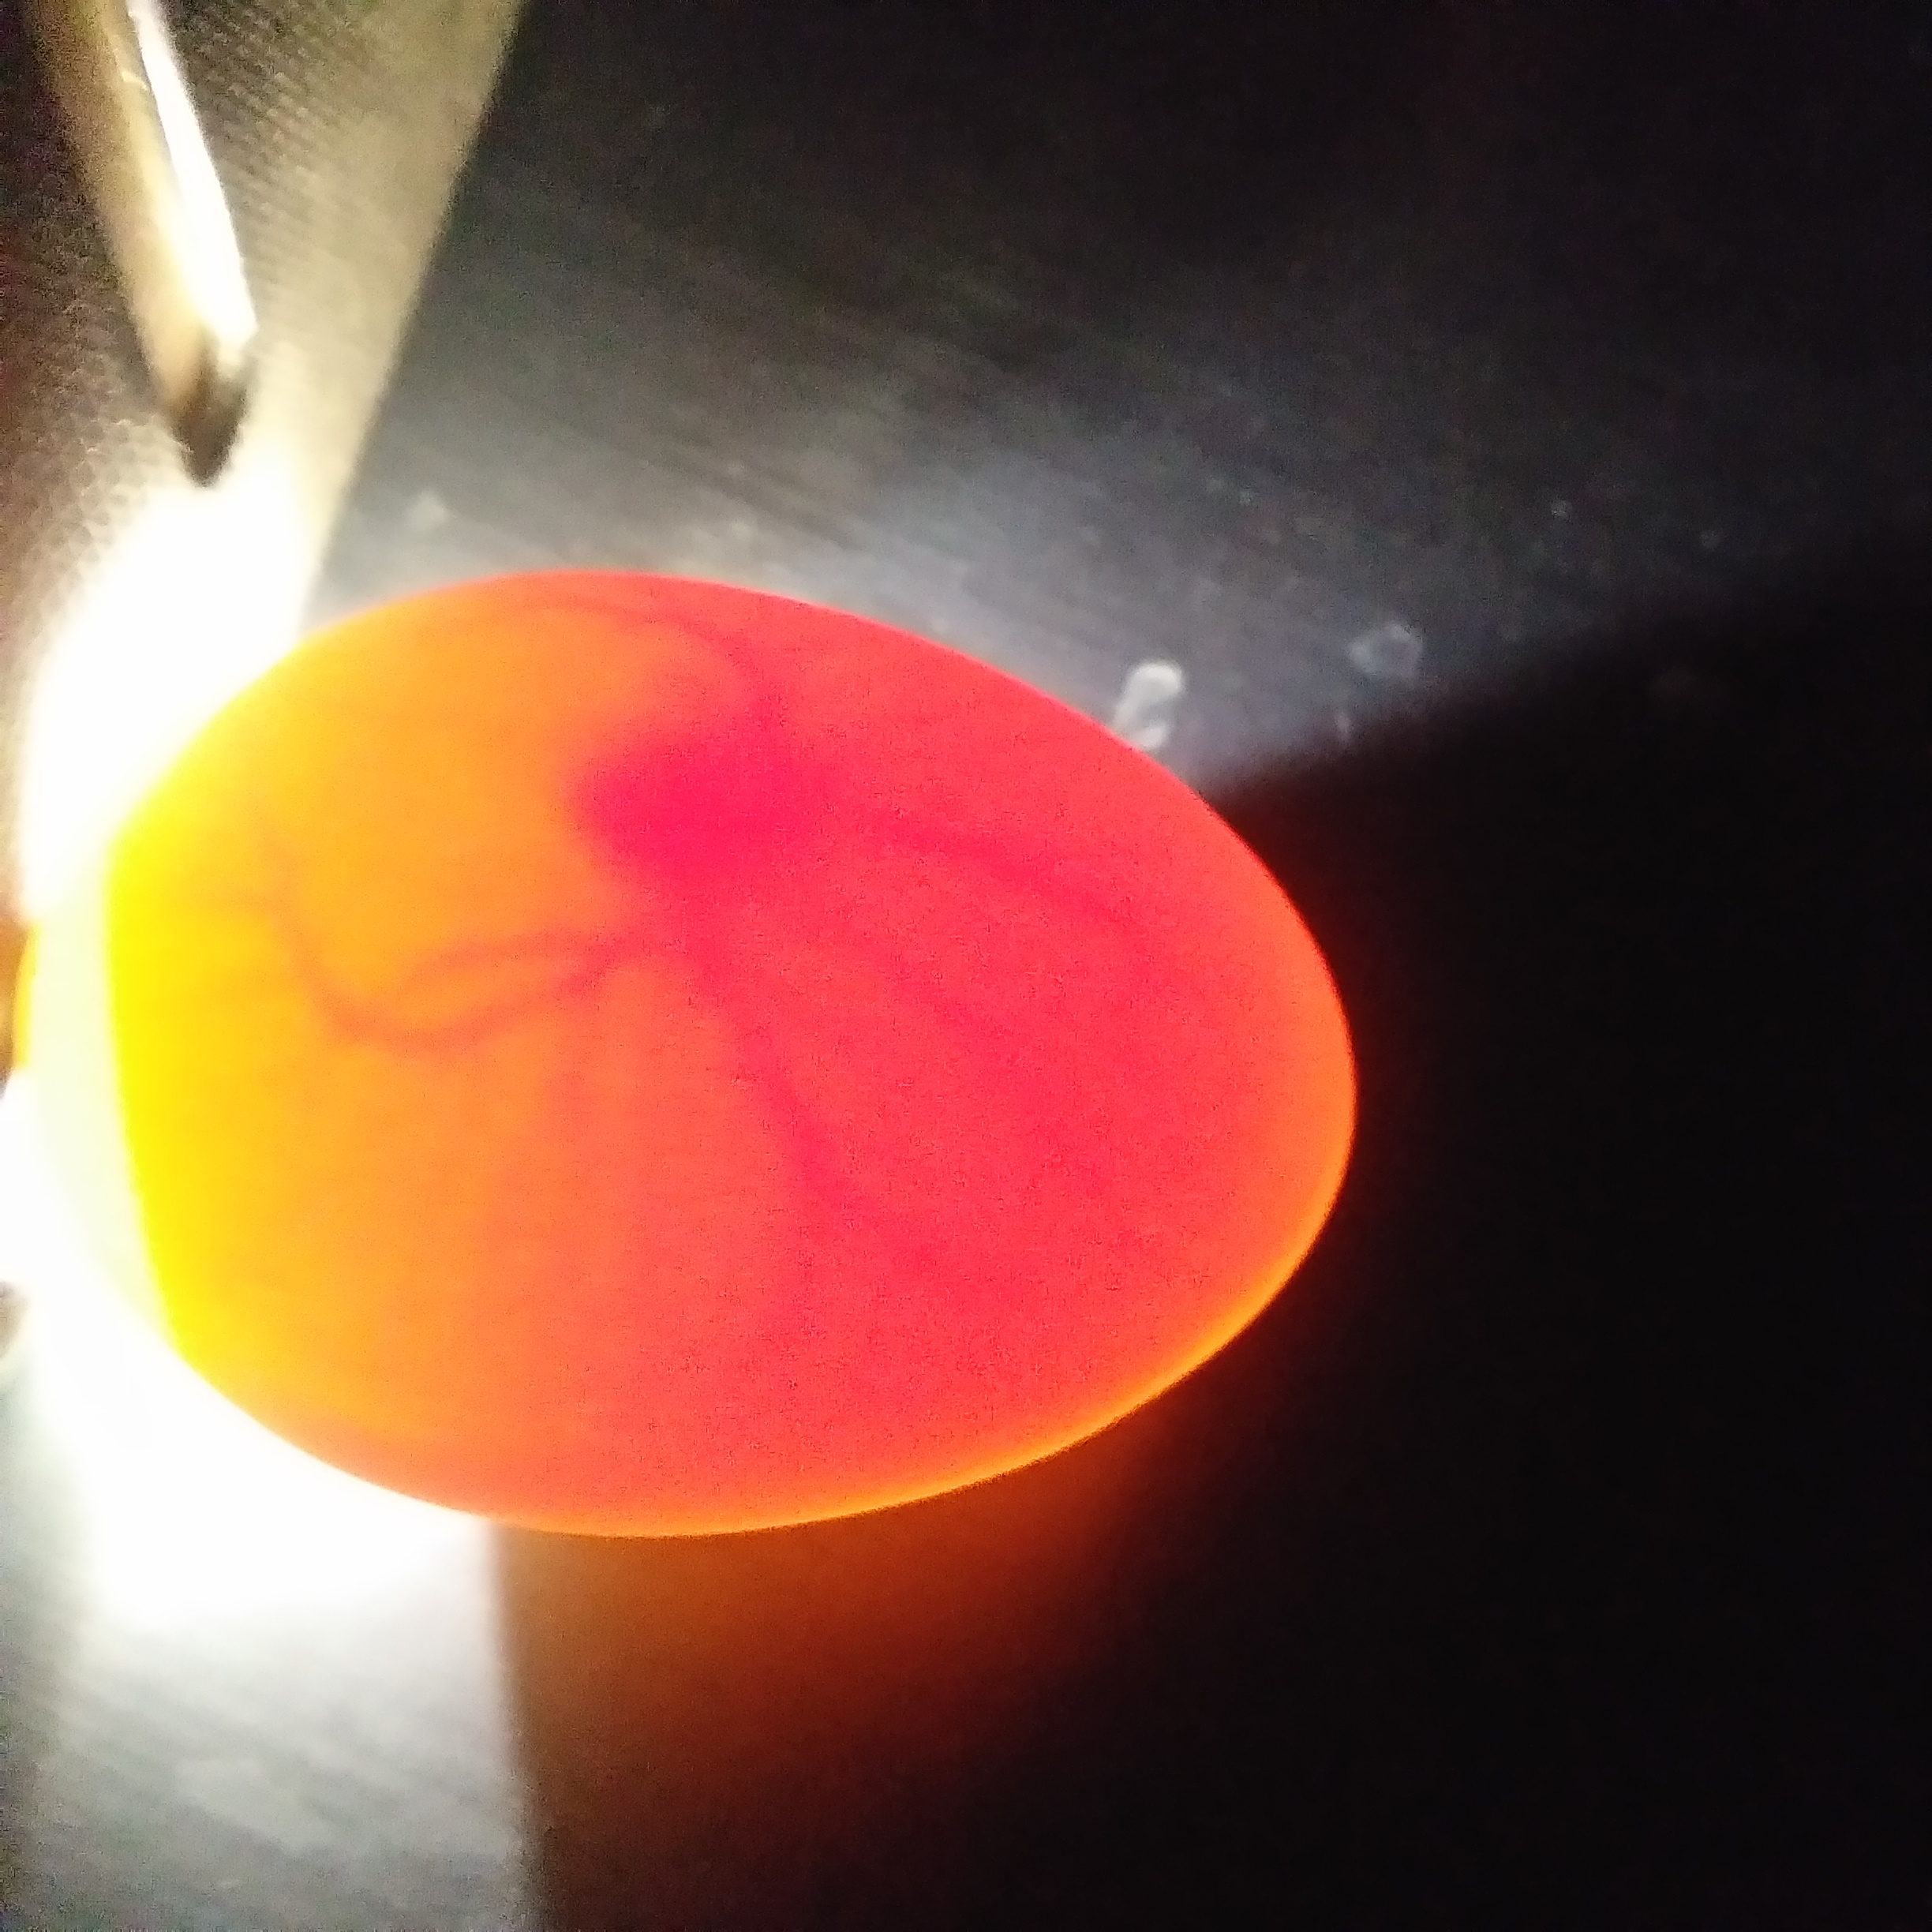bloodcell: (566, 991, 1077, 1290), (202, 860, 518, 1200)
embryo: (540, 709, 823, 915)
